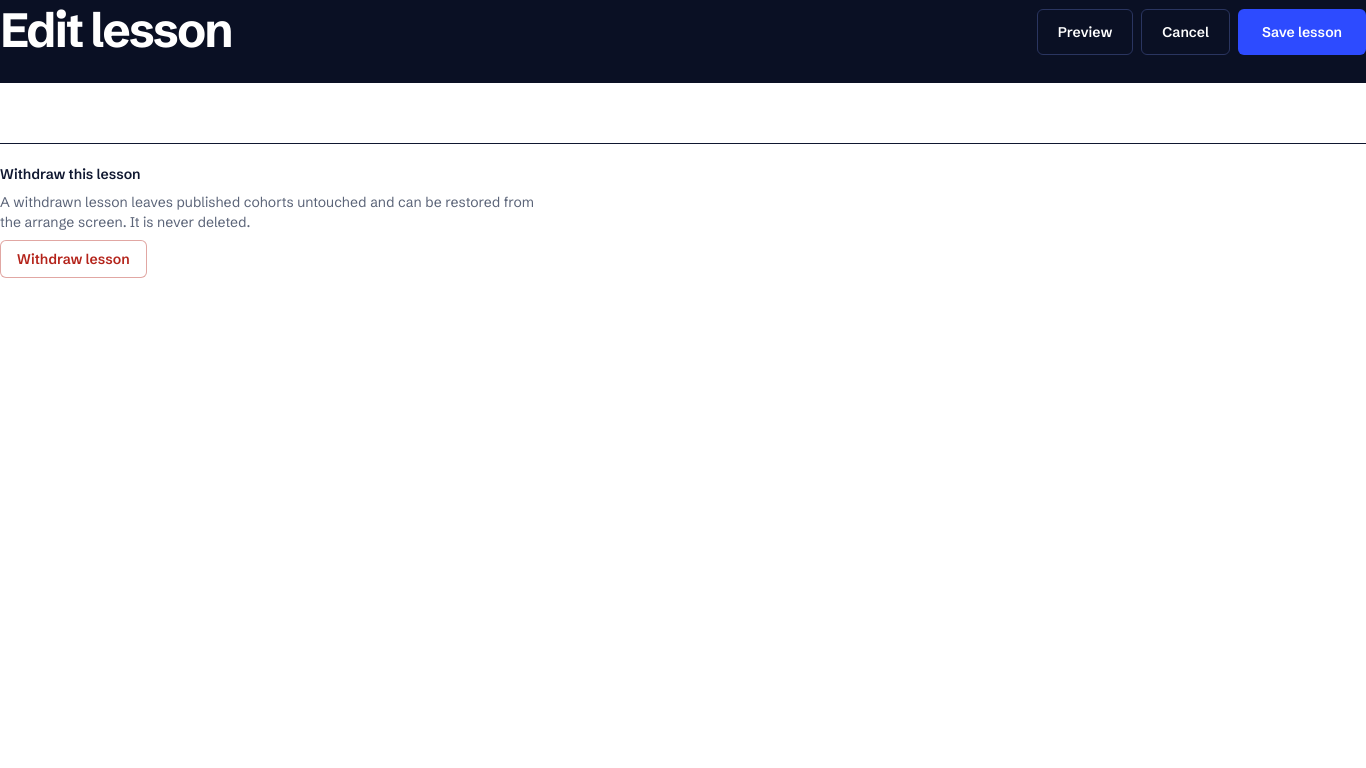
Scenario: LessonEditorClient withdraw modal — no stale error on reopen › discards a resolved { ok: false } failure when the modal is cancelled and reopened
Click the button "Withdraw lesson" at x=73, y=259, box [0,240,147,278]
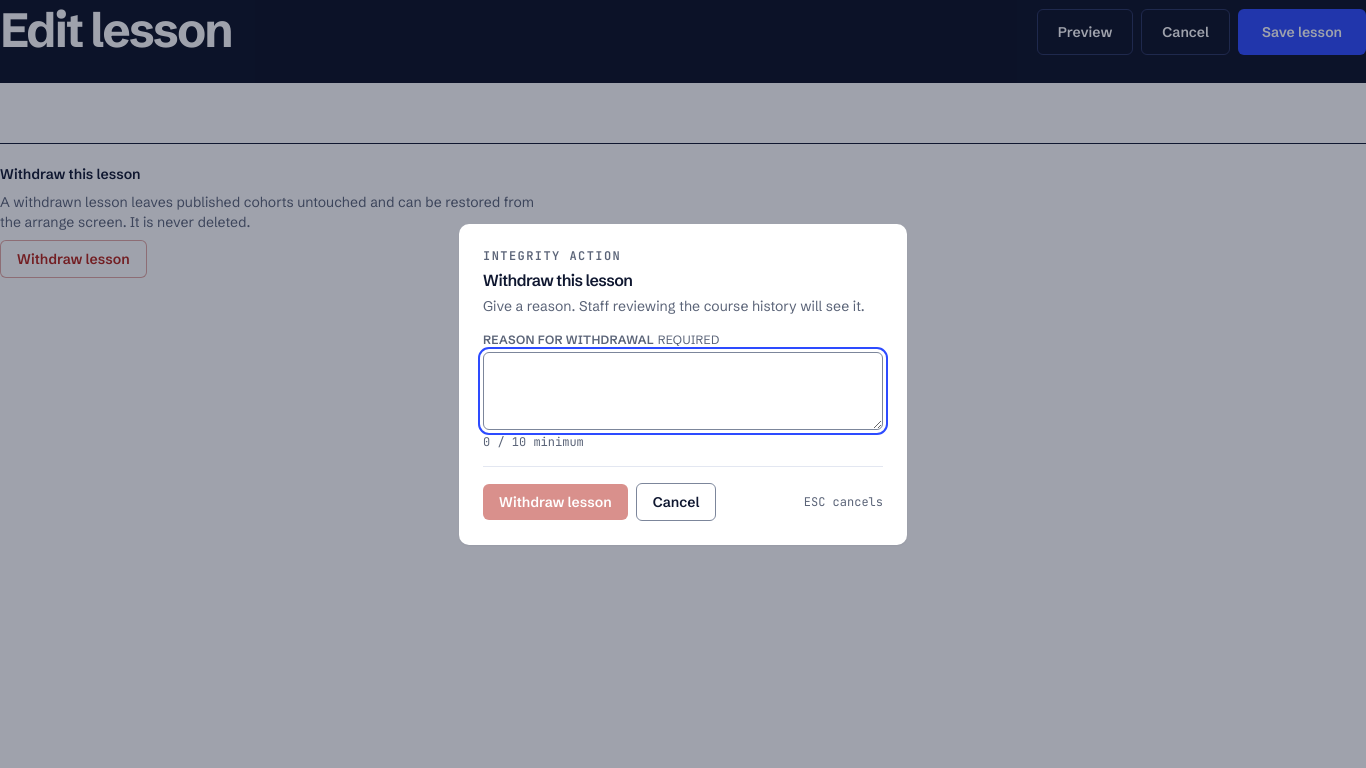
Type "Superseded by the 2026 rewrite" into the text box labelled "Reason for withdrawal" at x=683, y=390, box [483,352,883,430]
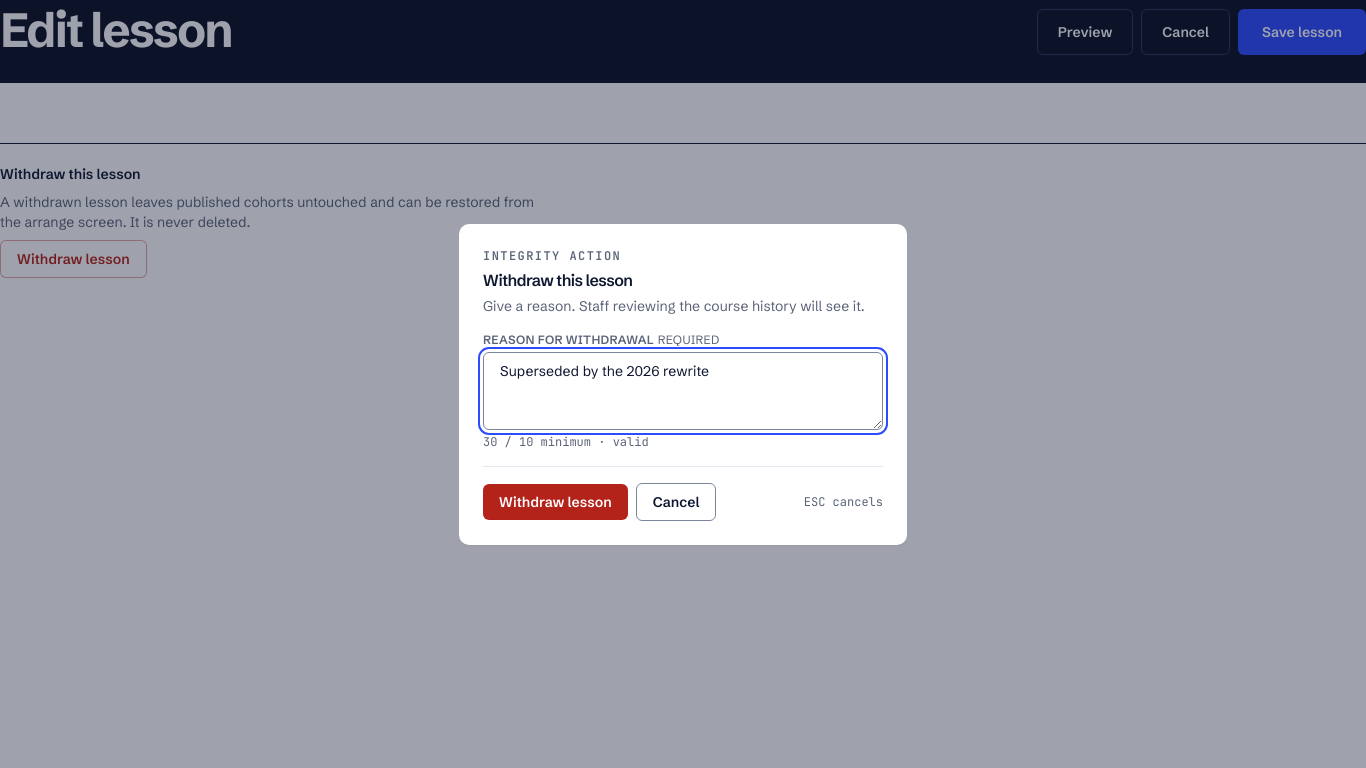
Click the button "Withdraw lesson" at x=555, y=502, box [483,484,628,520]
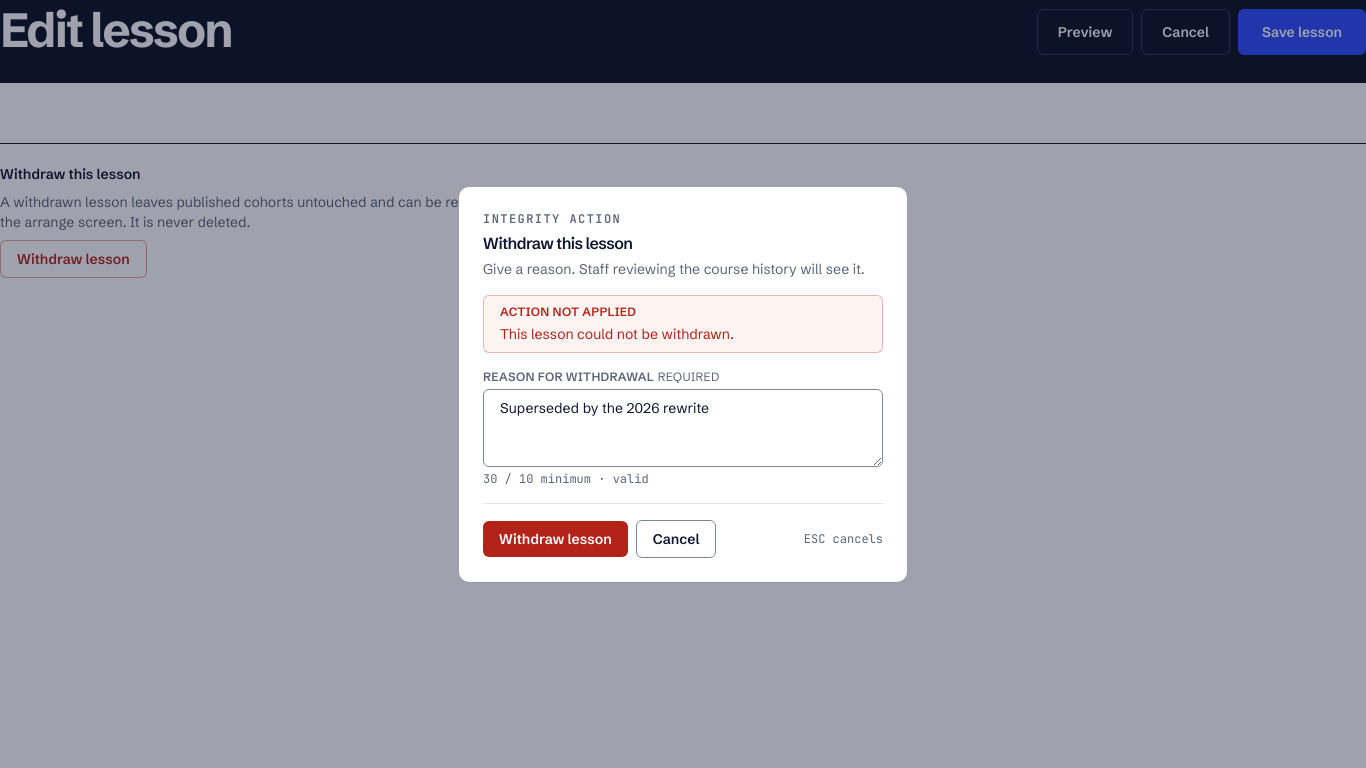
Now the message "Action not applied This lesson could not be withdrawn." is shown, box [483,294,883,352]
Click the button "Cancel" at x=676, y=538, box [636,520,716,558]
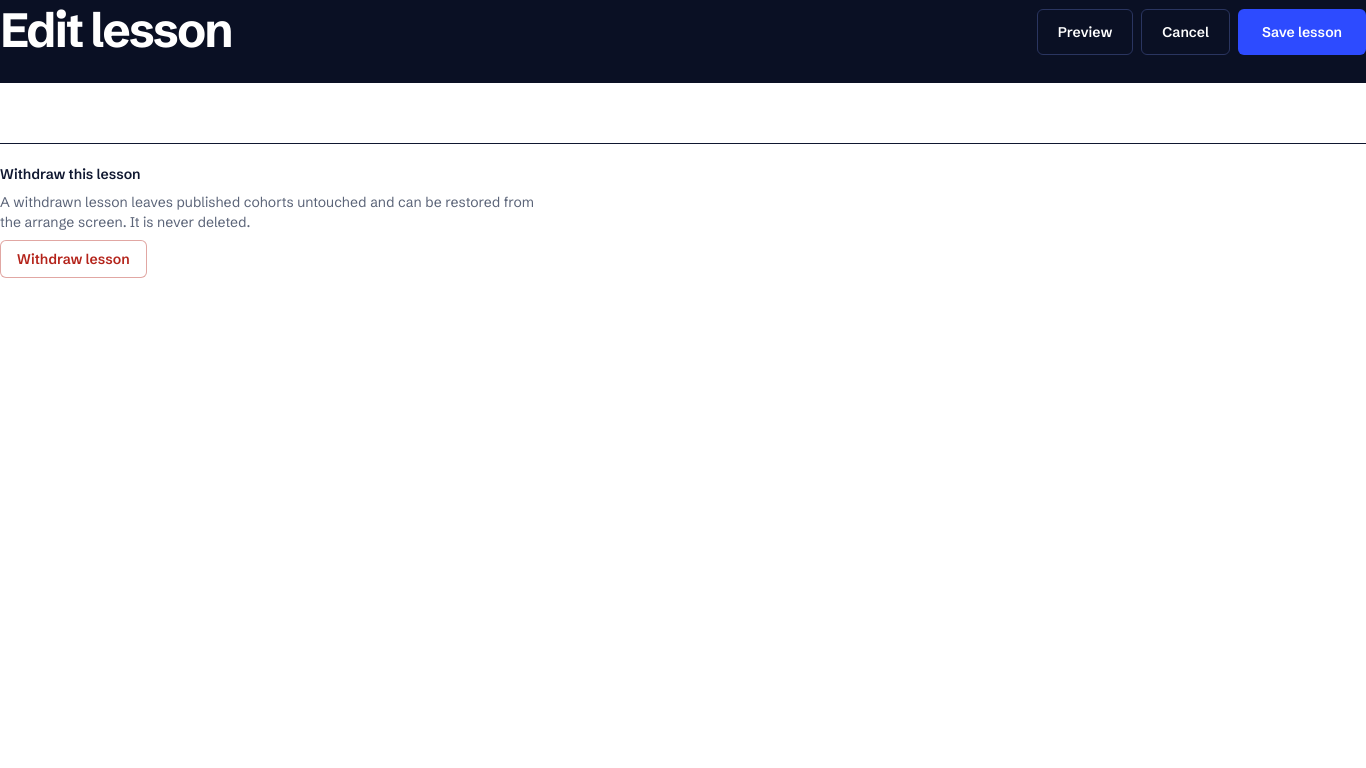
Now the dialog is gone
Click the button "Withdraw lesson" at x=73, y=259, box [0,240,147,278]
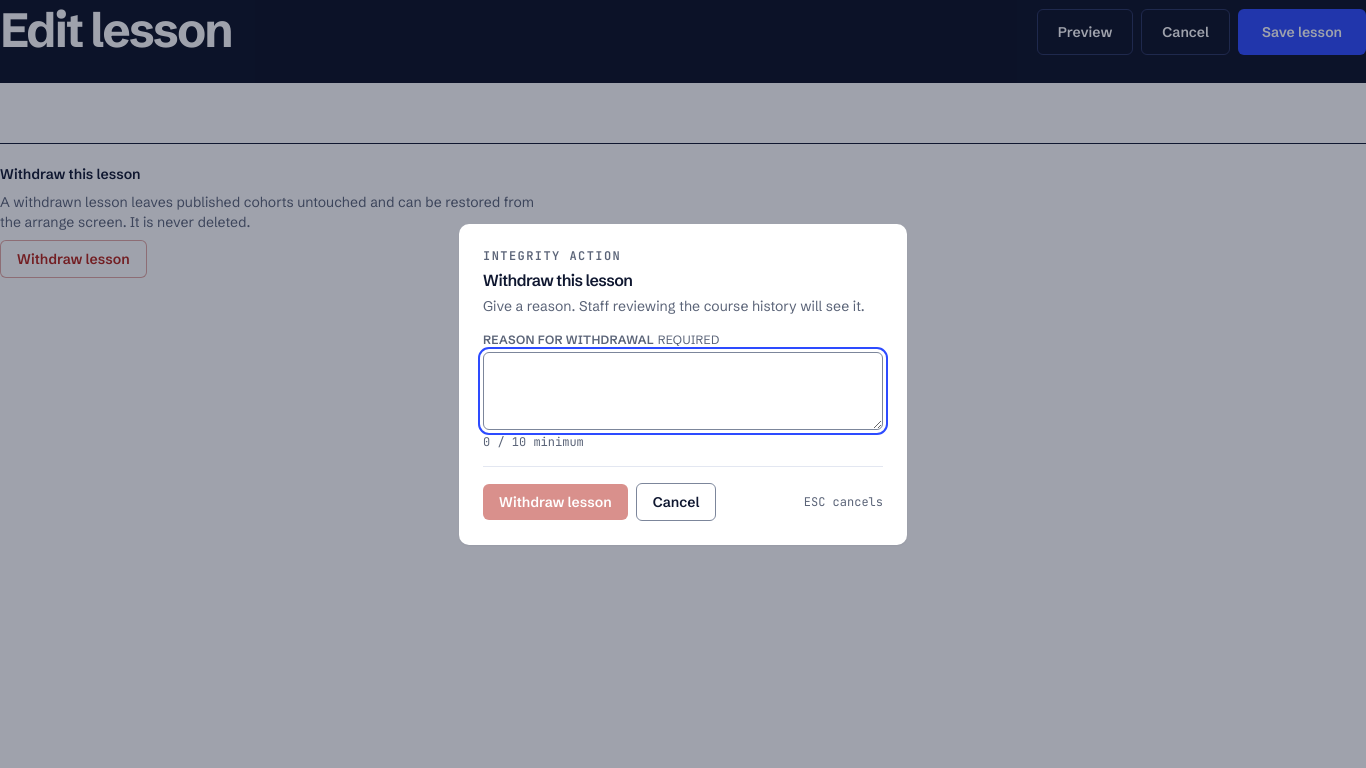
Expected: the message "Action not applied This lesson could not be withdrawn." is not shown
Now the dialog is shown, box [459,224,907,544]
